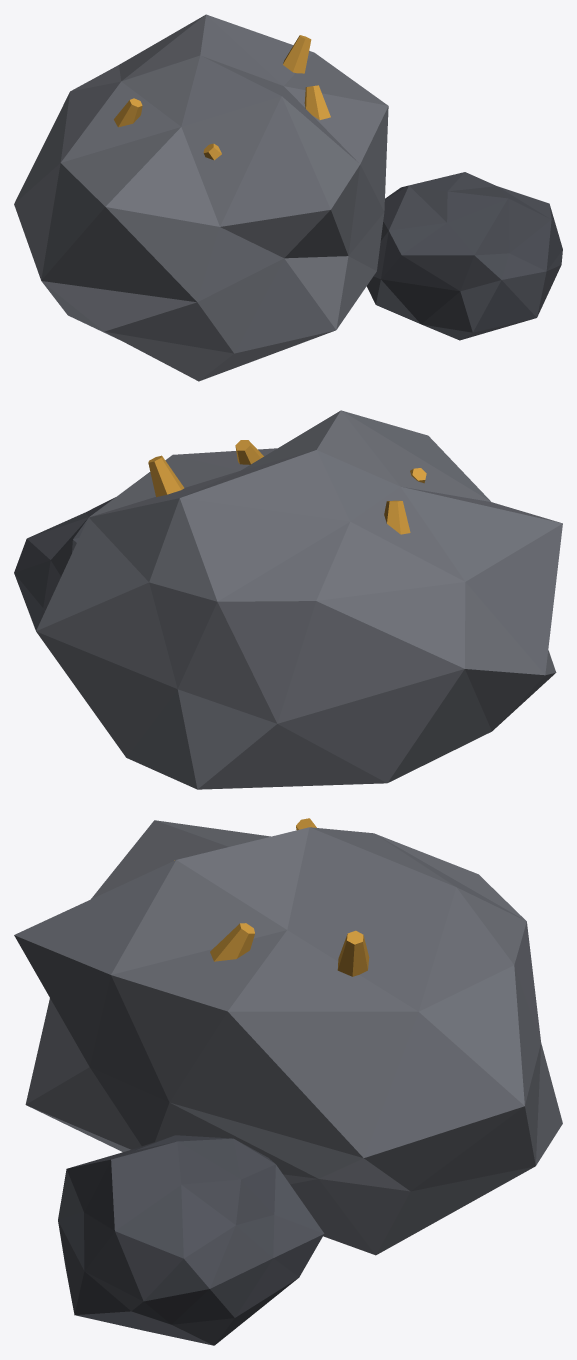
File: RockGold.obj
3 views of the same model, one above another, from view 1: azimuth 30°, elevation 25°; view 2: azimuth 150°, elevation 25°; view 3: azimuth 270°, elevation 25° (orthographic). The views are drawn at different scales.
Visible parts, largest first — view 1: RockGold; view 2: RockGold; view 3: RockGold.
Part boxes in pixels (bbox=[...]): RockGold: bbox=[14, 14, 562, 381]; RockGold: bbox=[14, 410, 562, 789]; RockGold: bbox=[14, 818, 562, 1345].
Size of the model in its own units: 5.48 by 3.16 by 4.18.
